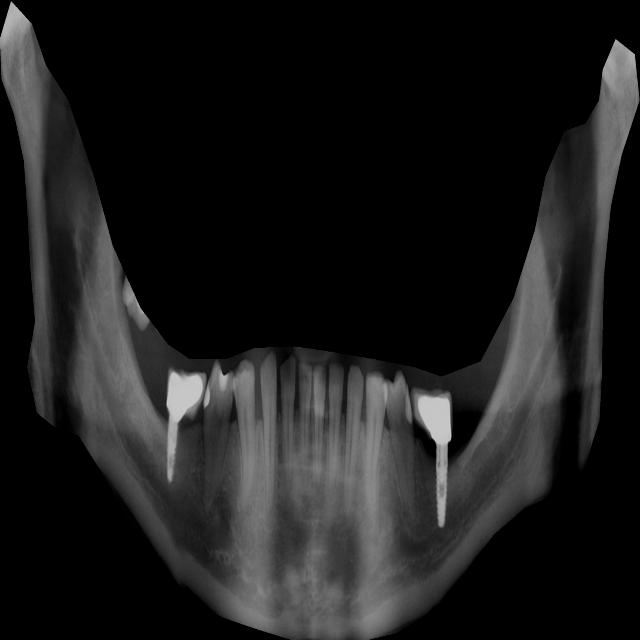mandibula: (0, 1, 640, 640)
